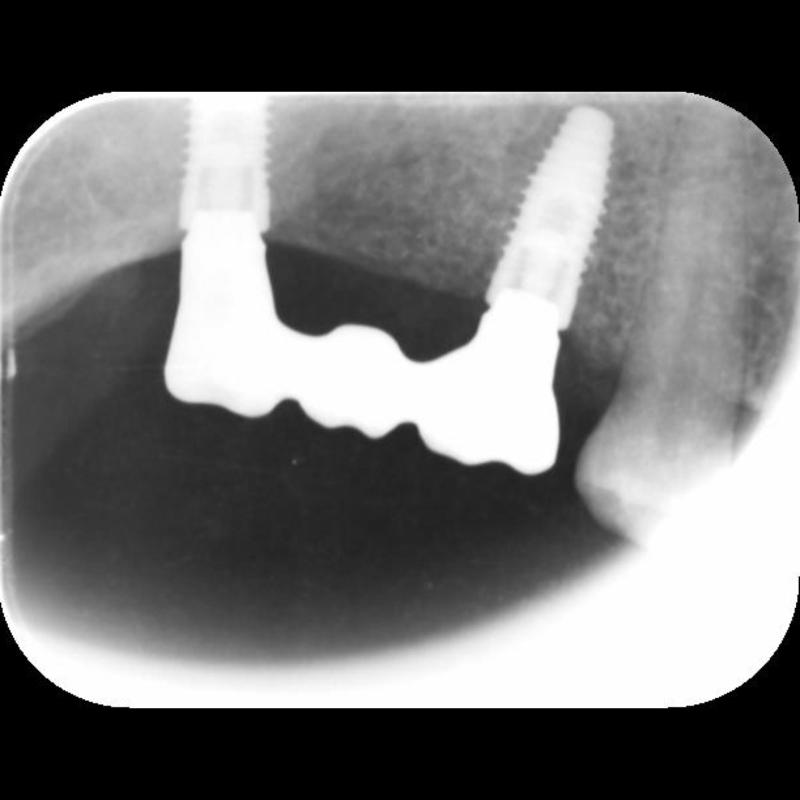Dentium: (572, 256, 668, 528)
